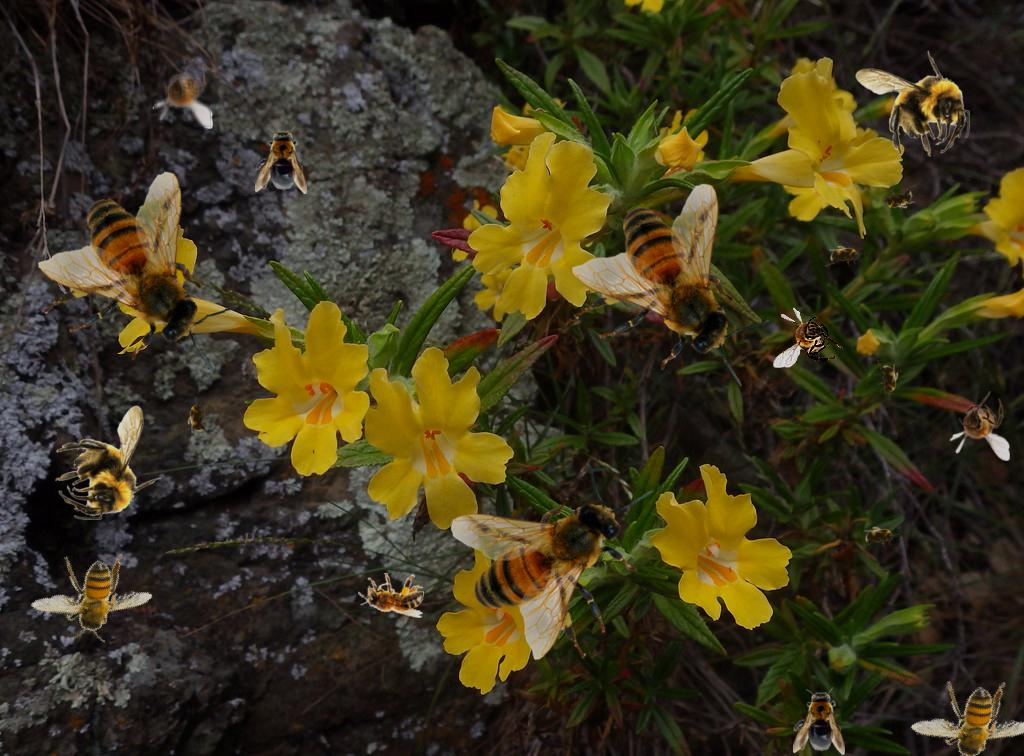Bee: (33, 167, 244, 383), (450, 461, 654, 660), (572, 183, 771, 387), (17, 528, 162, 666), (899, 656, 1024, 756), (55, 405, 162, 520), (855, 50, 970, 157), (152, 59, 213, 129), (773, 307, 843, 368), (949, 391, 1010, 461), (255, 126, 307, 194), (793, 687, 845, 755), (358, 573, 424, 618), (876, 184, 920, 214), (860, 526, 900, 548), (825, 245, 865, 267), (187, 397, 209, 437), (877, 360, 899, 400)
